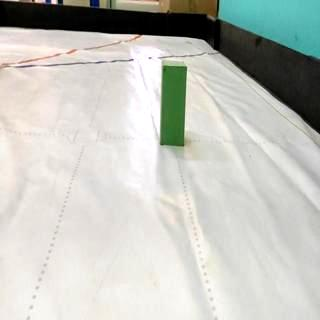greenbox: (160, 58, 188, 148)
